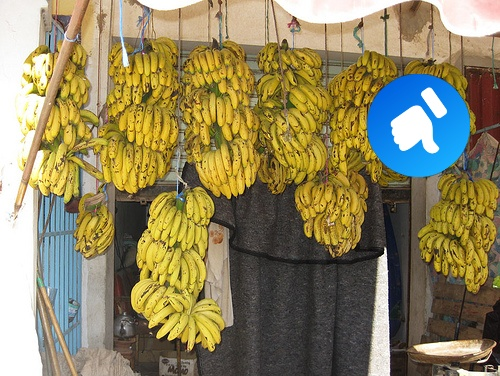like: (367, 74, 470, 177)
